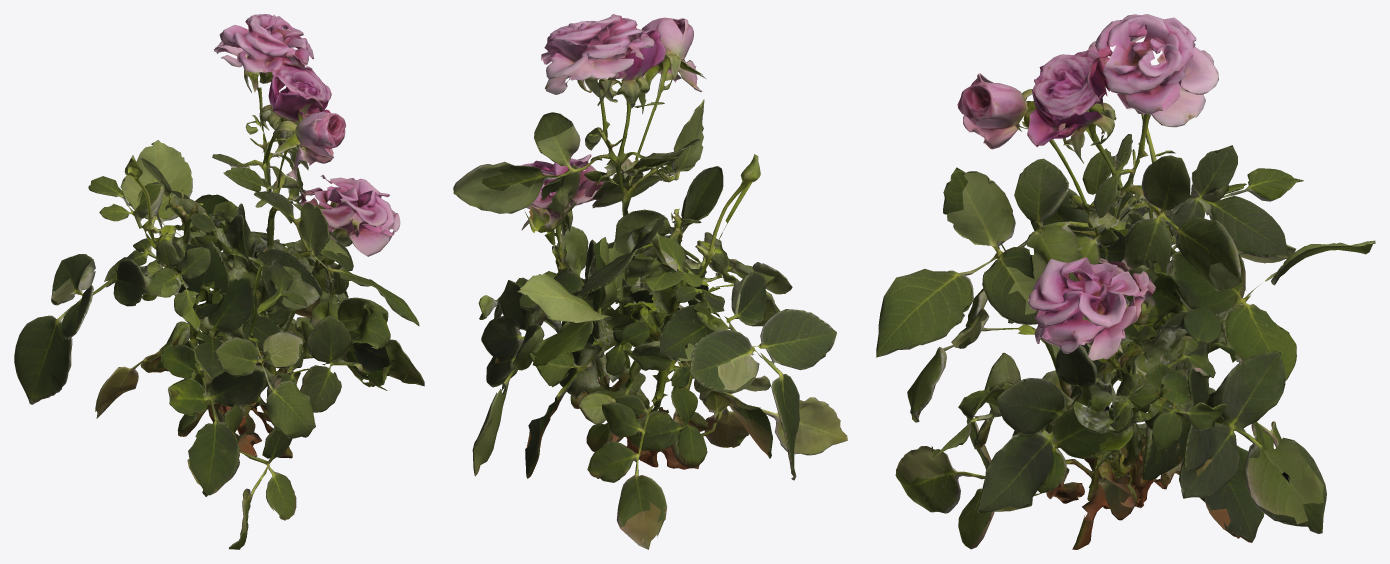
Rendered from roses_sparse.glb.
3 views of the same model, side by side, from view 1: azimuth 30°, elevation 25°; view 2: azimuth 150°, elevation 25°; view 3: azimuth 270°, elevation 25° (orthographic). The views are drawn at different scales.
Visible parts, largest first — view 1: Object_2; view 2: Object_2; view 3: Object_2.
Boxes of the visible parts, left/top/right/bottom form: Object_2: left=14, top=14, right=424, bottom=549; Object_2: left=453, top=14, right=847, bottom=549; Object_2: left=876, top=14, right=1375, bottom=549.
Bounding box in the file's own units: 3.14 × 4.1 × 3.33.
Materials: 1 (1 with a texture image).
